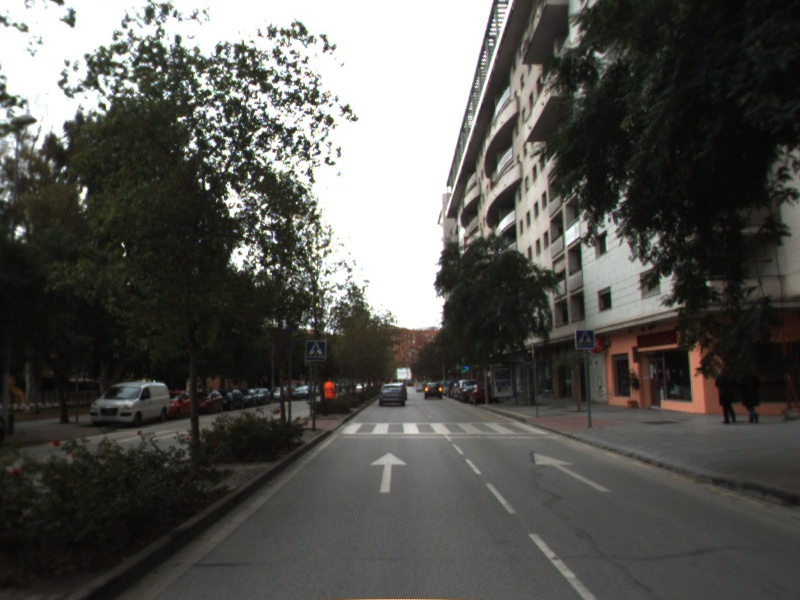STRAIGHT: (531, 450, 613, 494), (368, 450, 410, 495)
